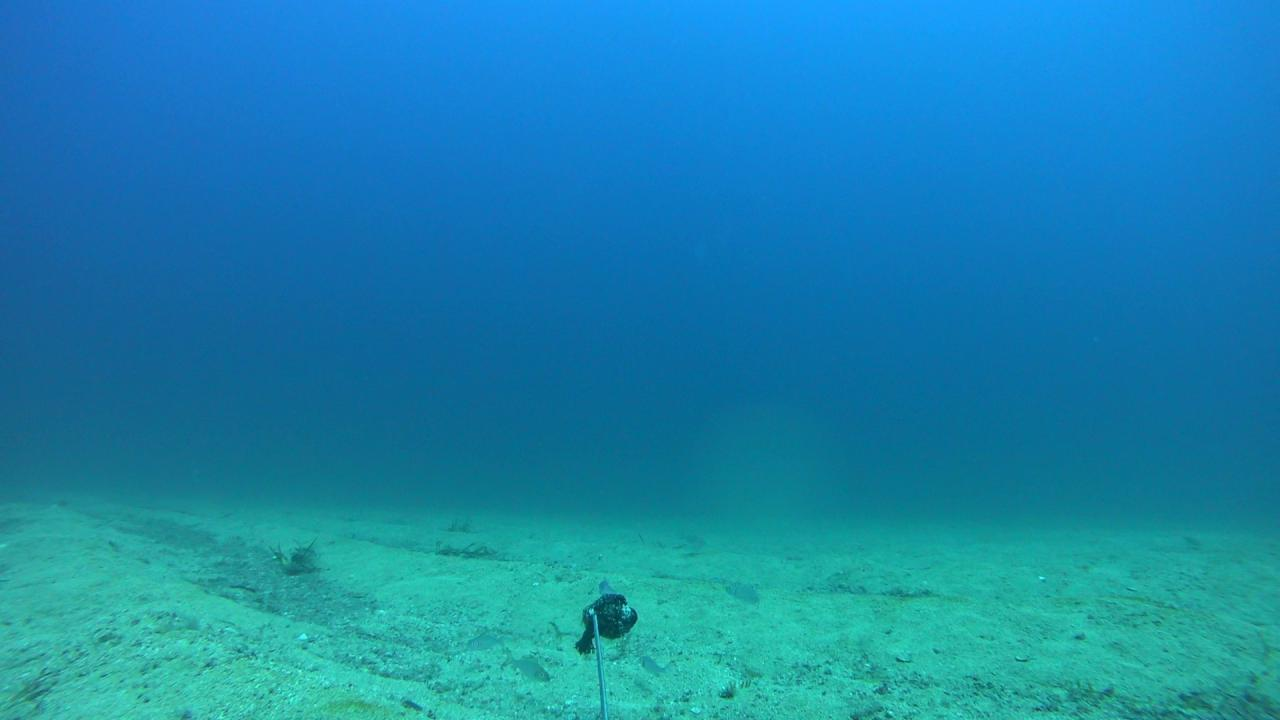pagellus: (502, 648, 552, 683), (468, 626, 502, 654), (638, 659, 686, 678)
